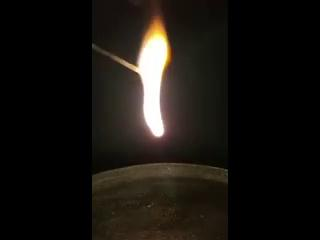Fire: (141, 14, 172, 138)
